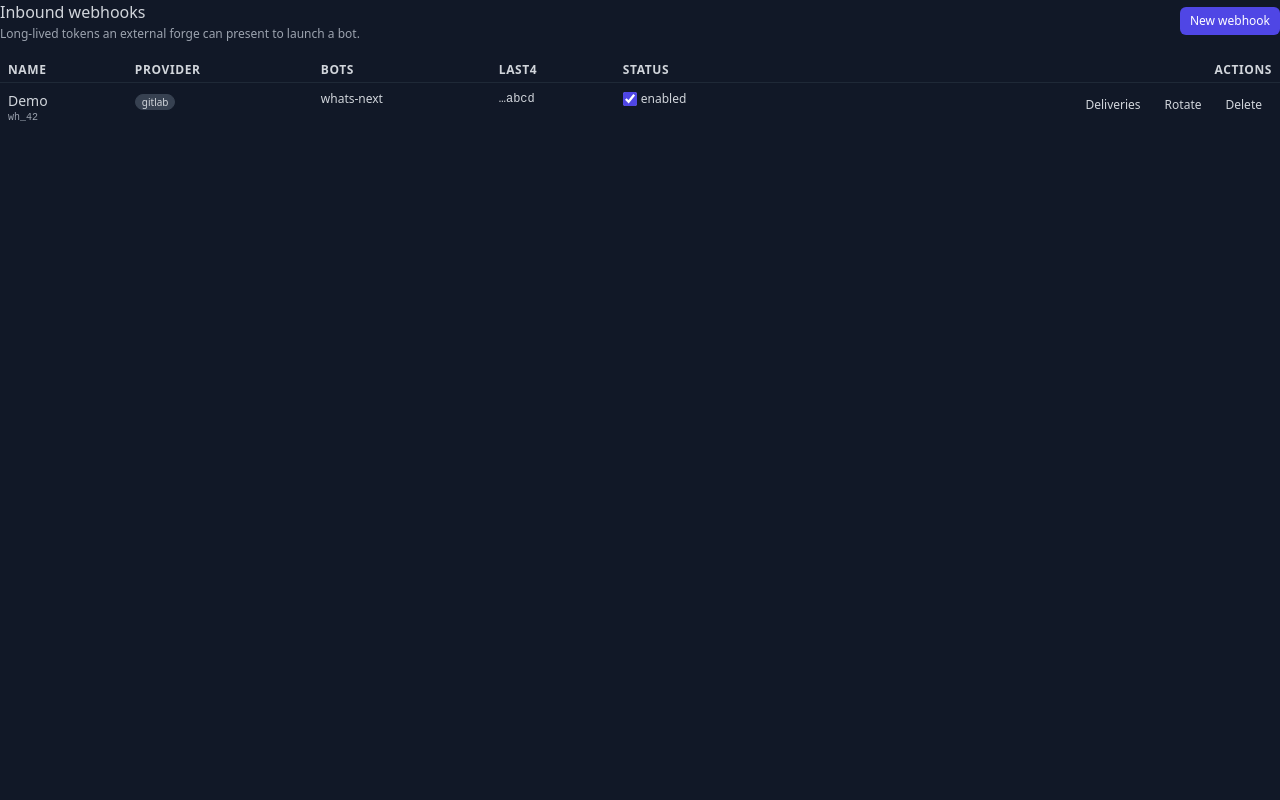
Test: WebhooksTab token-once panel › renders the issued token + inbound URL after a rotate
The image size is (1280, 800).
Expected: the text "Demo" is shown, [8,91,48,110]
Note: Click the row's Rotate button → opens the confirm dialog.
Click the button "Rotate": (1183, 105) [1155,91,1212,119]
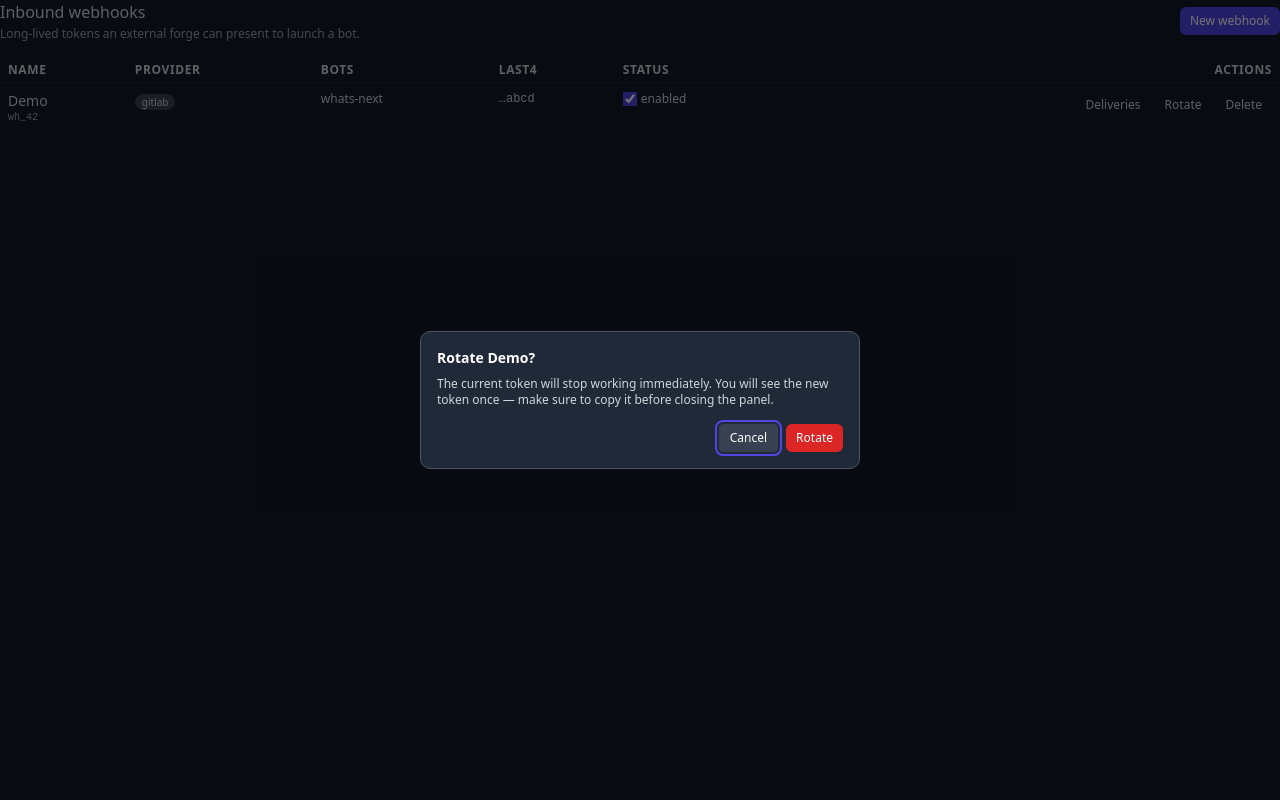
Expected: the button "Rotate" is shown
Click the button "Rotate": (815, 438) [786,424,843,452]
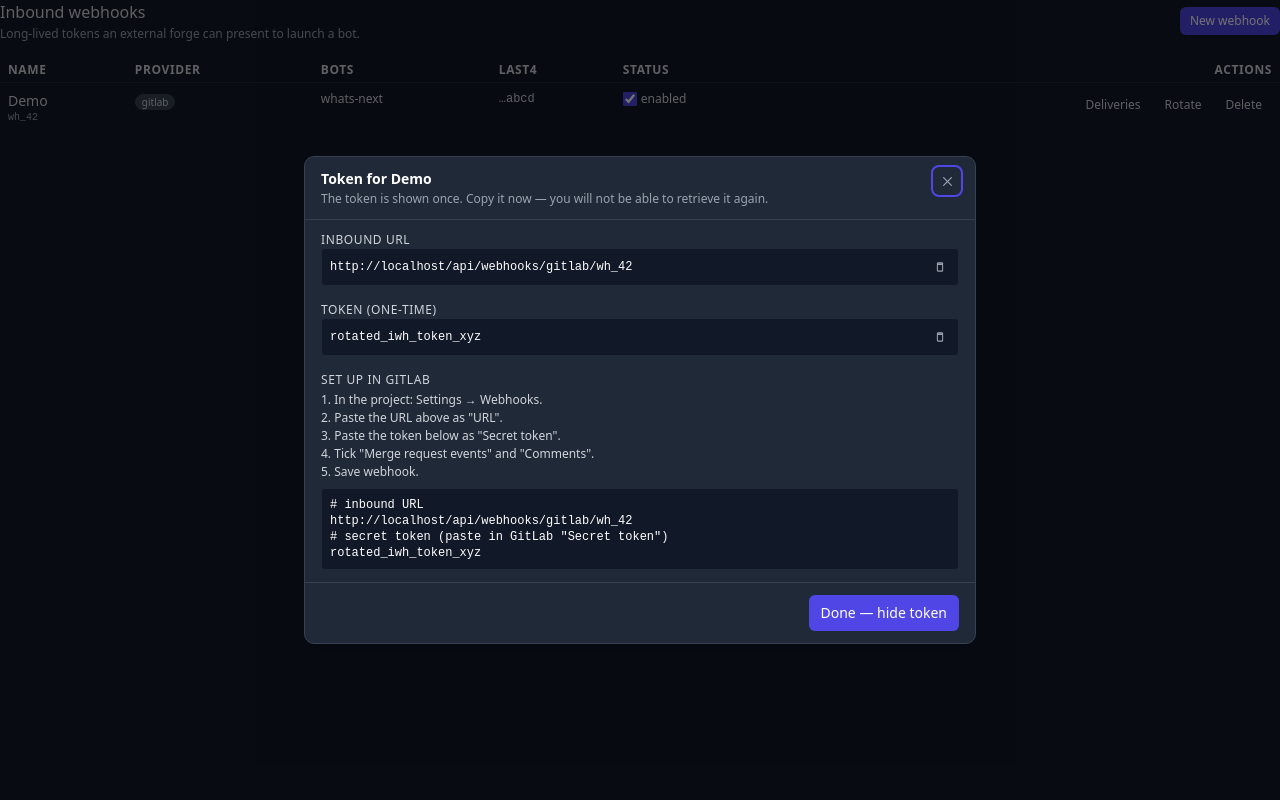
Expected: the element with test id "token-once-panel" shows "rotated_iwh_token_xyz", [330,330,481,344]
Expected: the element with test id "token-once-panel" shows "/api/webhooks/gitlab/wh_42", [330,260,632,274]
